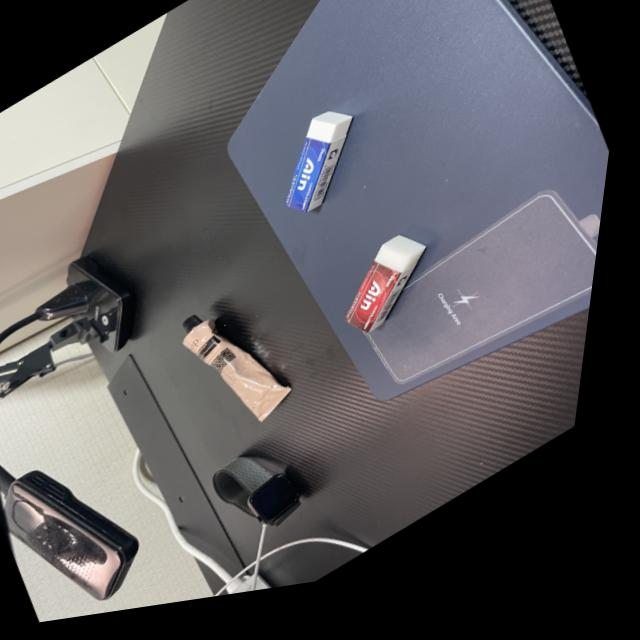blue: (249, 91, 401, 243)
red: (318, 221, 466, 363)
